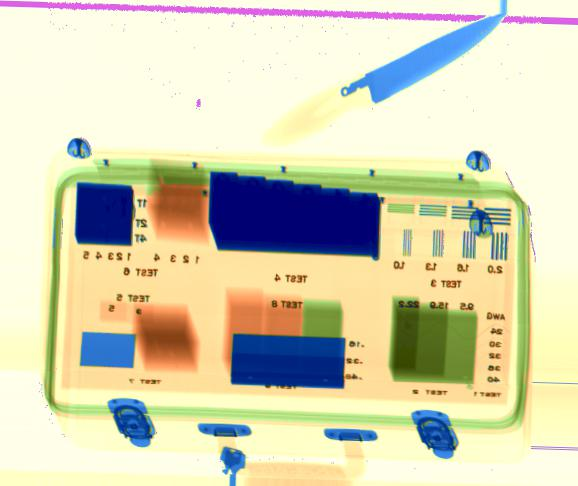Knife: (263, 13, 506, 149)
